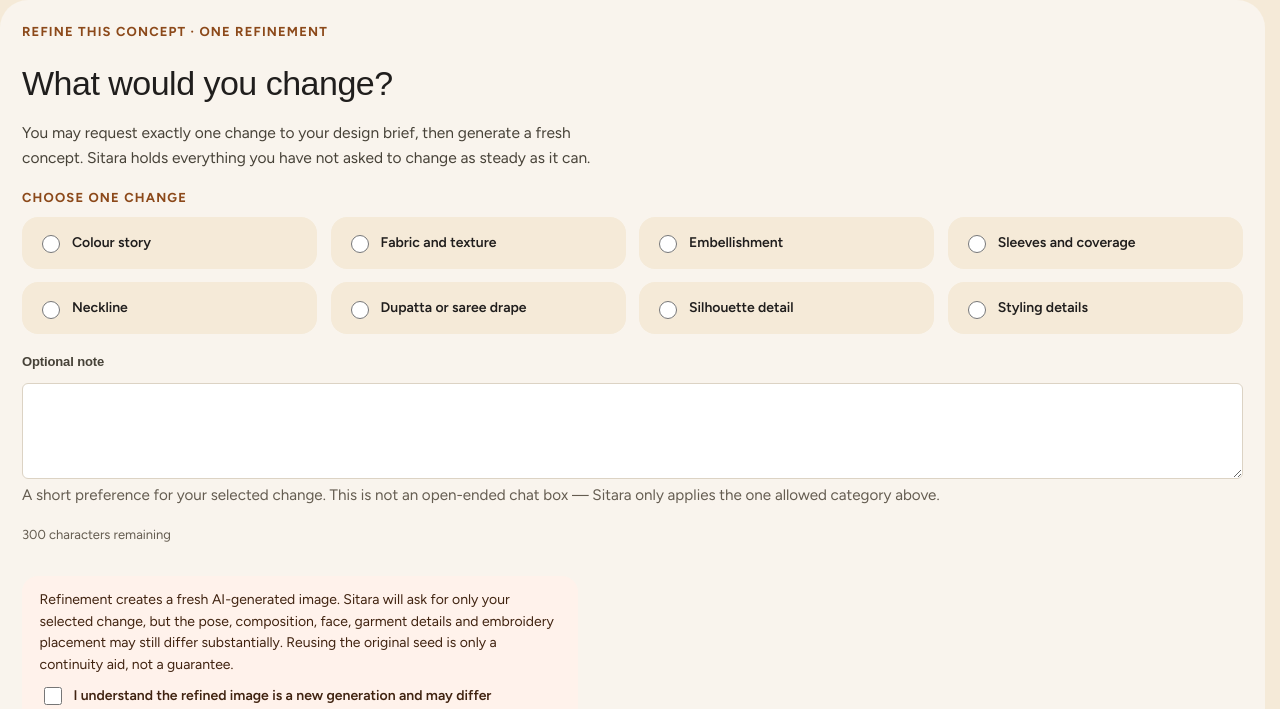
RefinementPanel — drift acknowledgement › requires the acknowledgement checkbox before submission is enabled
Click the radio button labelled "Colour story".
click(51, 244)  # box 42,236 -> 60,254
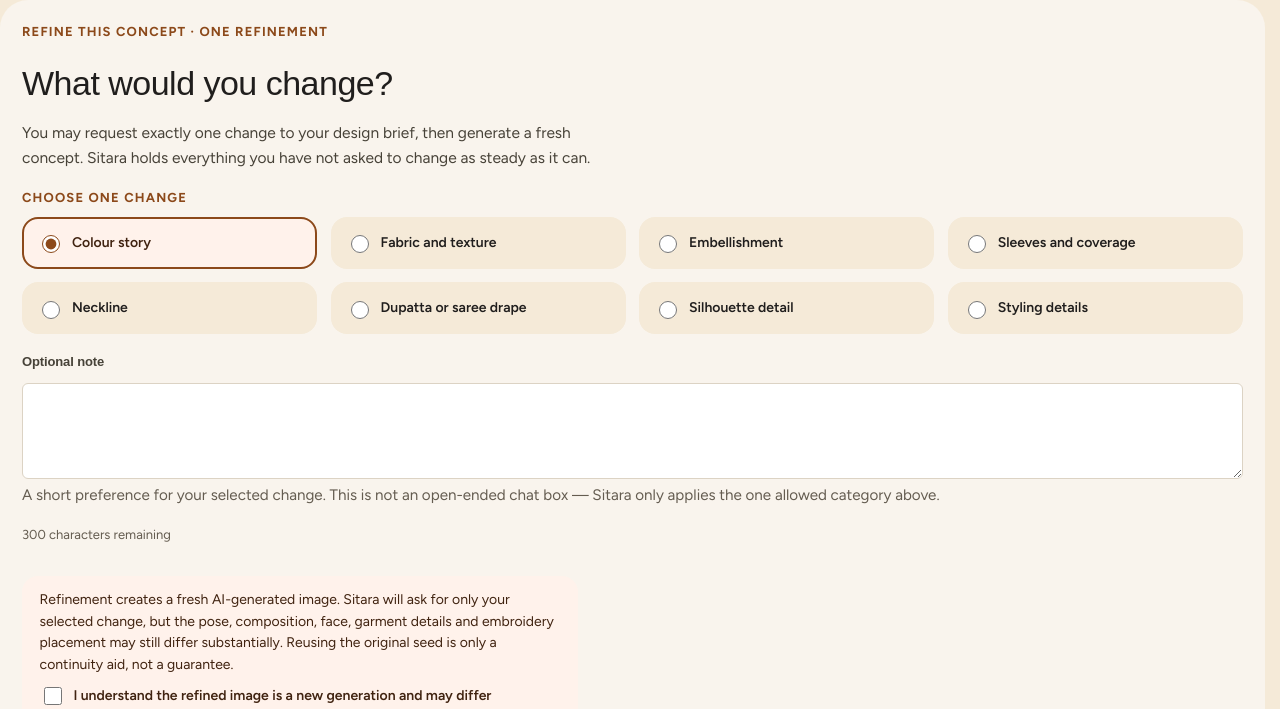
Click the checkbox.
click(53, 696)  # box 44,687 -> 62,705
(page scrolled)
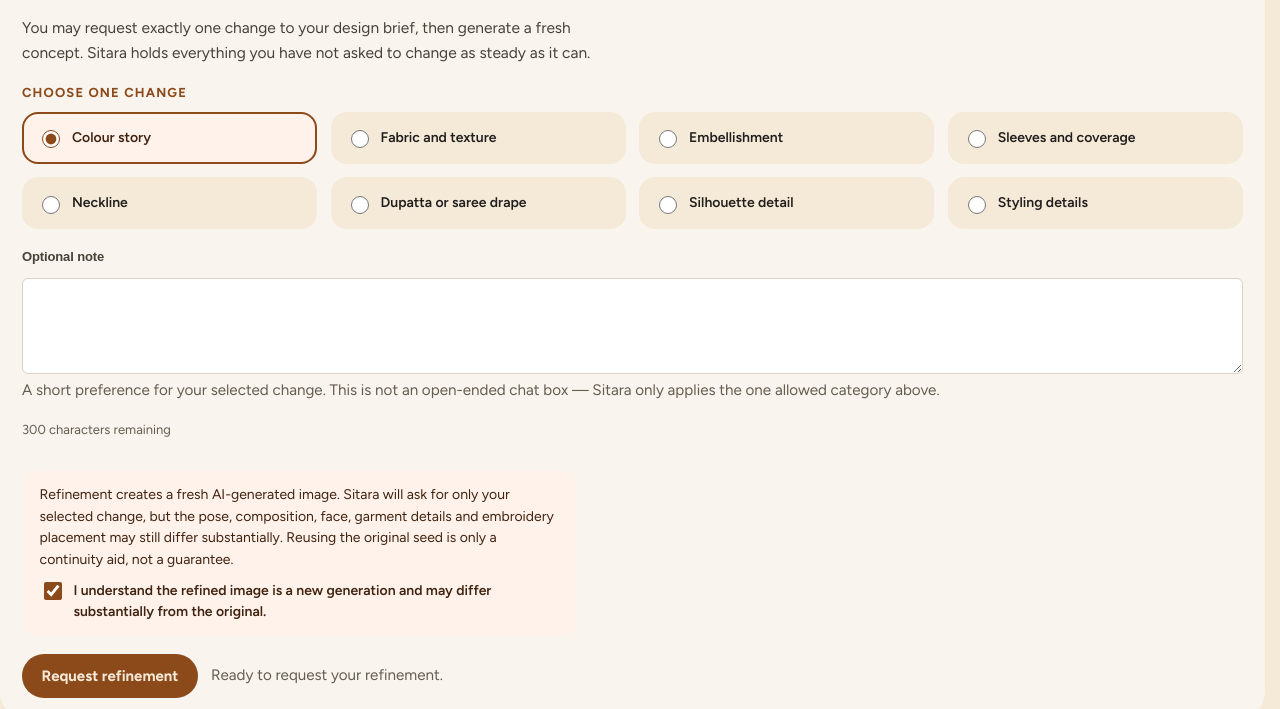
Check: the button "Request refinement" is enabled, box 22,654 -> 198,698
